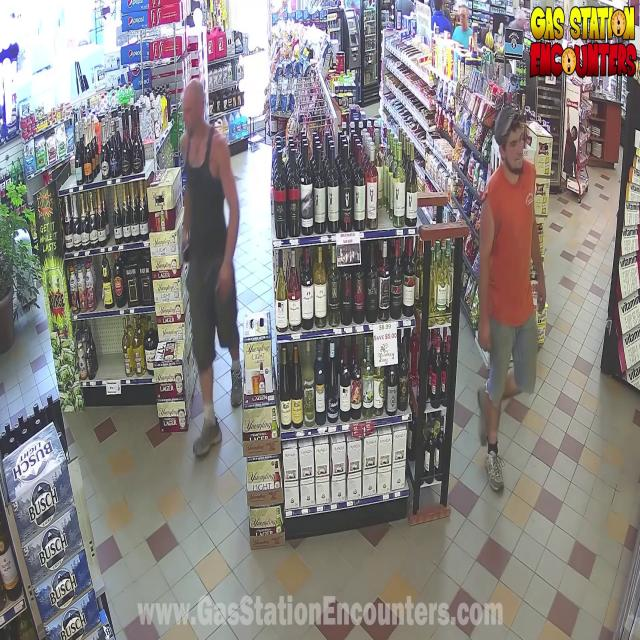normal: (460, 93, 571, 507), (153, 63, 261, 434)
